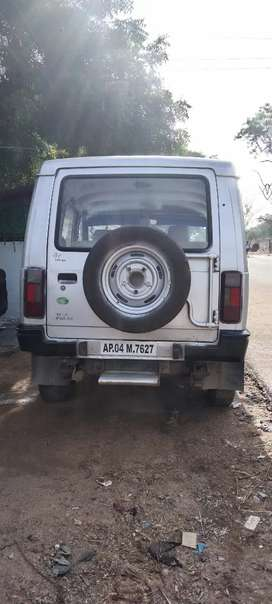AP04M7627: (98, 341, 158, 357)
